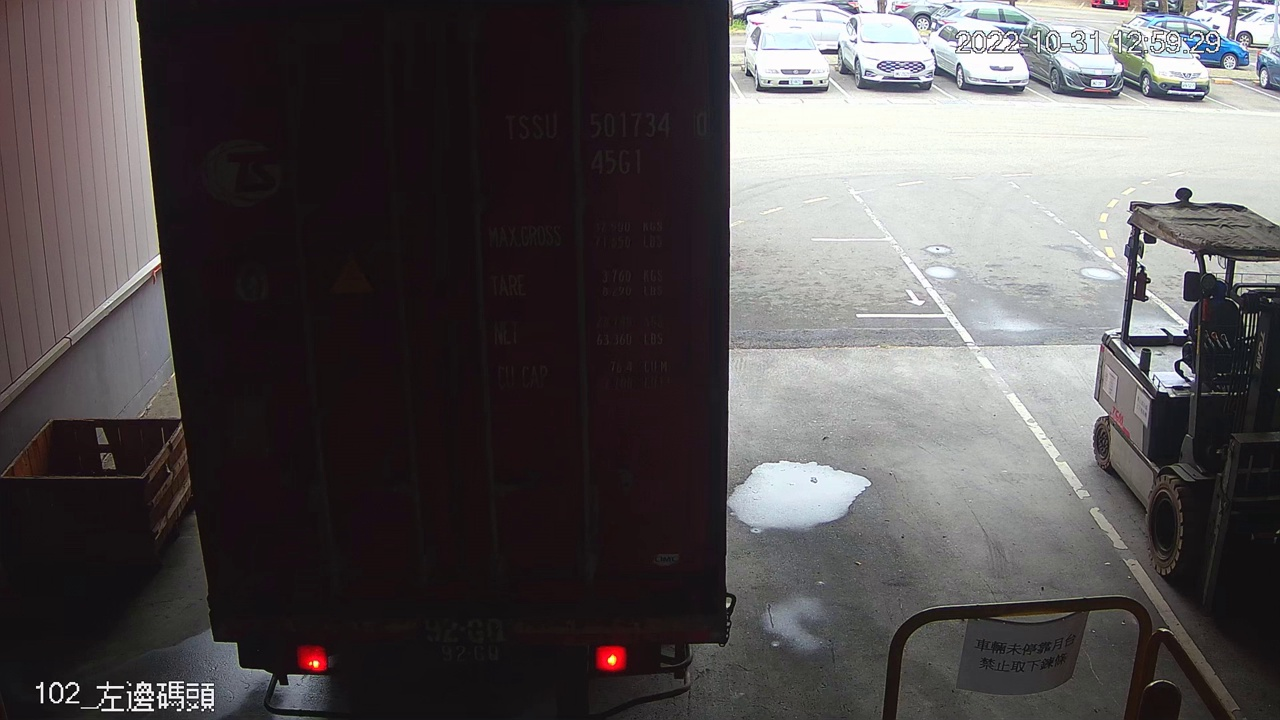container: (494, 102, 717, 182)
